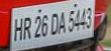2: (33, 15, 41, 38)
3: (85, 6, 91, 29)
4: (80, 7, 86, 29), (74, 8, 80, 29)
5: (67, 9, 74, 31)
6: (40, 13, 48, 36)
A: (57, 11, 67, 33)
D: (49, 12, 58, 35)
H: (13, 16, 22, 40)
R: (22, 16, 32, 39)
